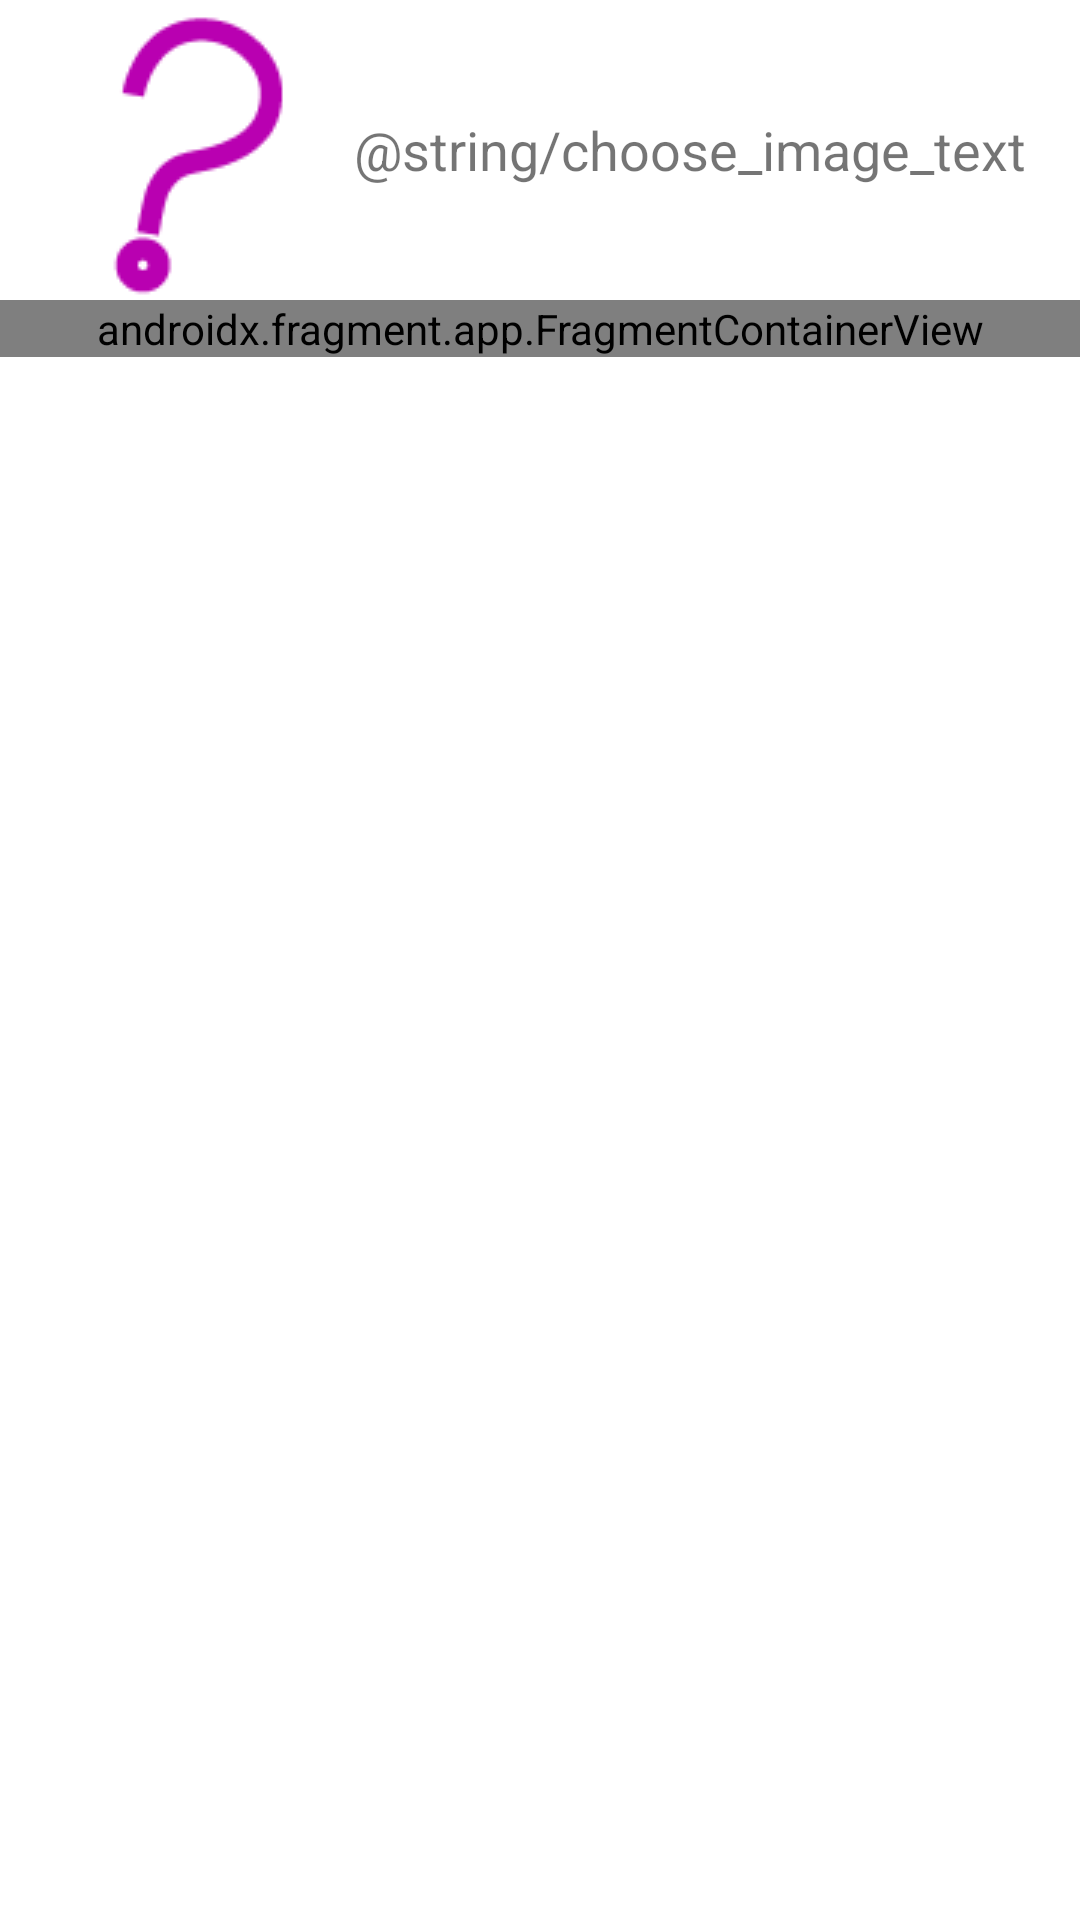

Icon click points for this 1080w x 1920h phone screenshot, format (x,y):
quest: (198,155)
